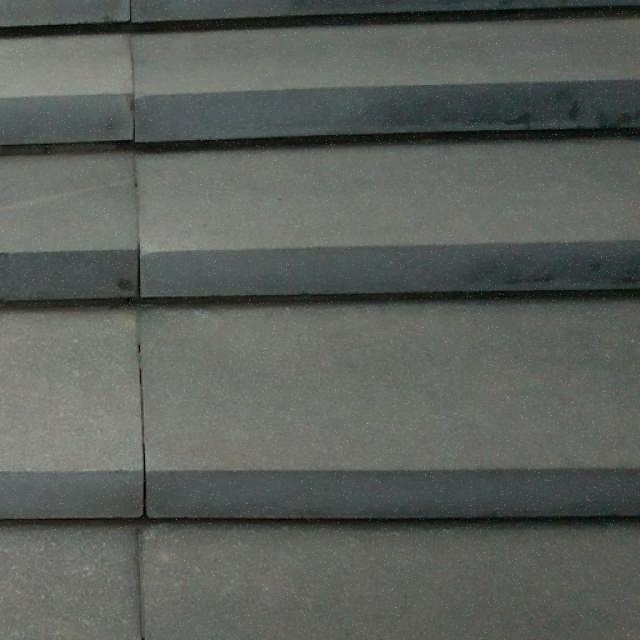stair: (19, 0, 640, 531)
